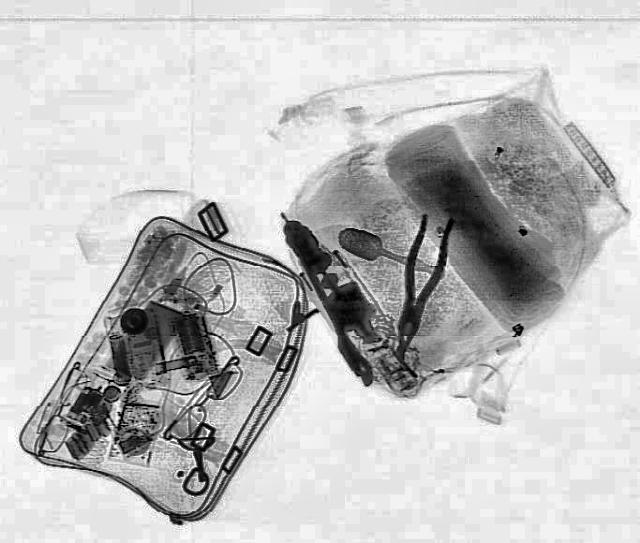Pliers: (378, 210, 458, 354)
